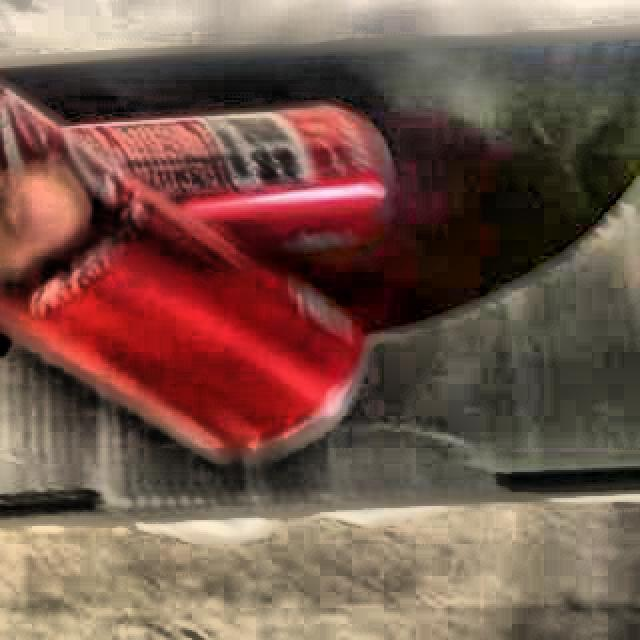metal: (0, 84, 389, 456)
